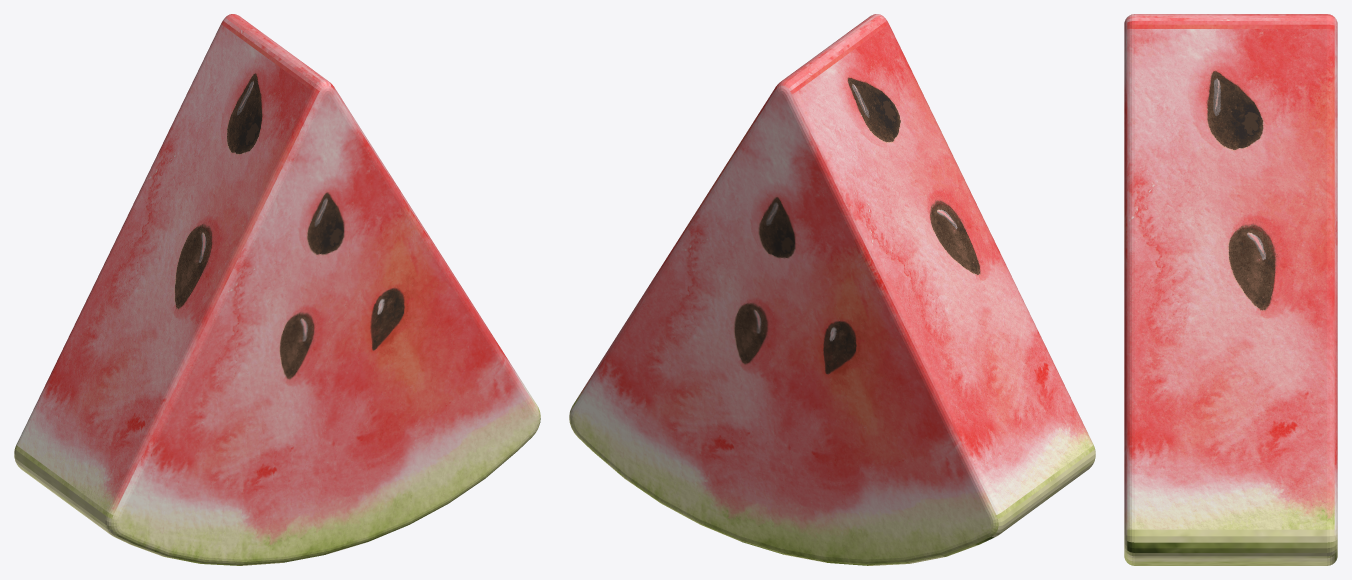
The model's file is watermelon.glb.
3 views of the same model, side by side, from view 1: azimuth 30°, elevation 25°; view 2: azimuth 150°, elevation 25°; view 3: azimuth 270°, elevation 25° (orthographic). The views are drawn at different scales.
Parts seen in each view (by area): view 1: Watermelon; view 2: Watermelon; view 3: Watermelon.
Part boxes in pixels (x1,y1,x2,y2): Watermelon: (14, 14, 540, 565); Watermelon: (569, 14, 1095, 565); Watermelon: (1124, 14, 1337, 565).
Bounding box in the file's own units: 5.23 × 5.46 × 2.08.
1 material, 1 textured.
